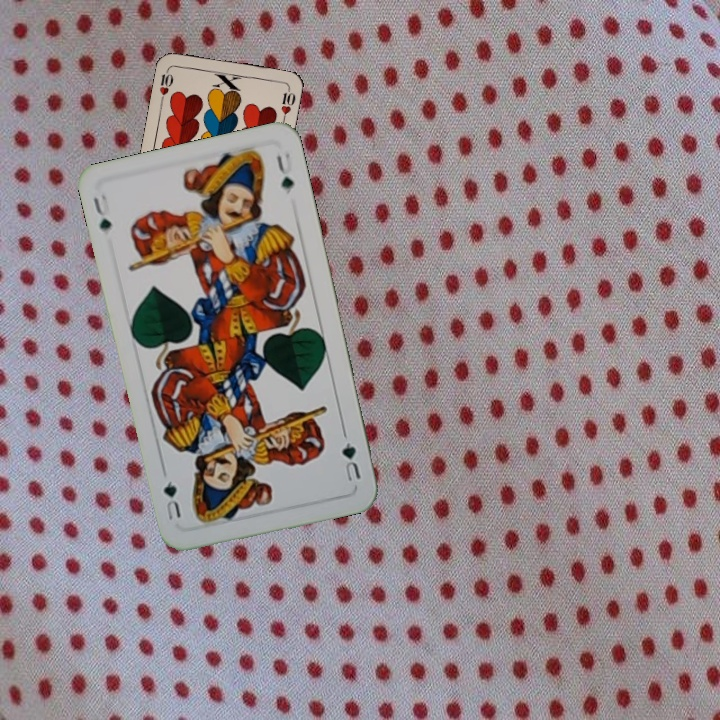GU: (337, 438, 364, 484), (89, 190, 114, 235)
H10: (155, 64, 176, 104)
